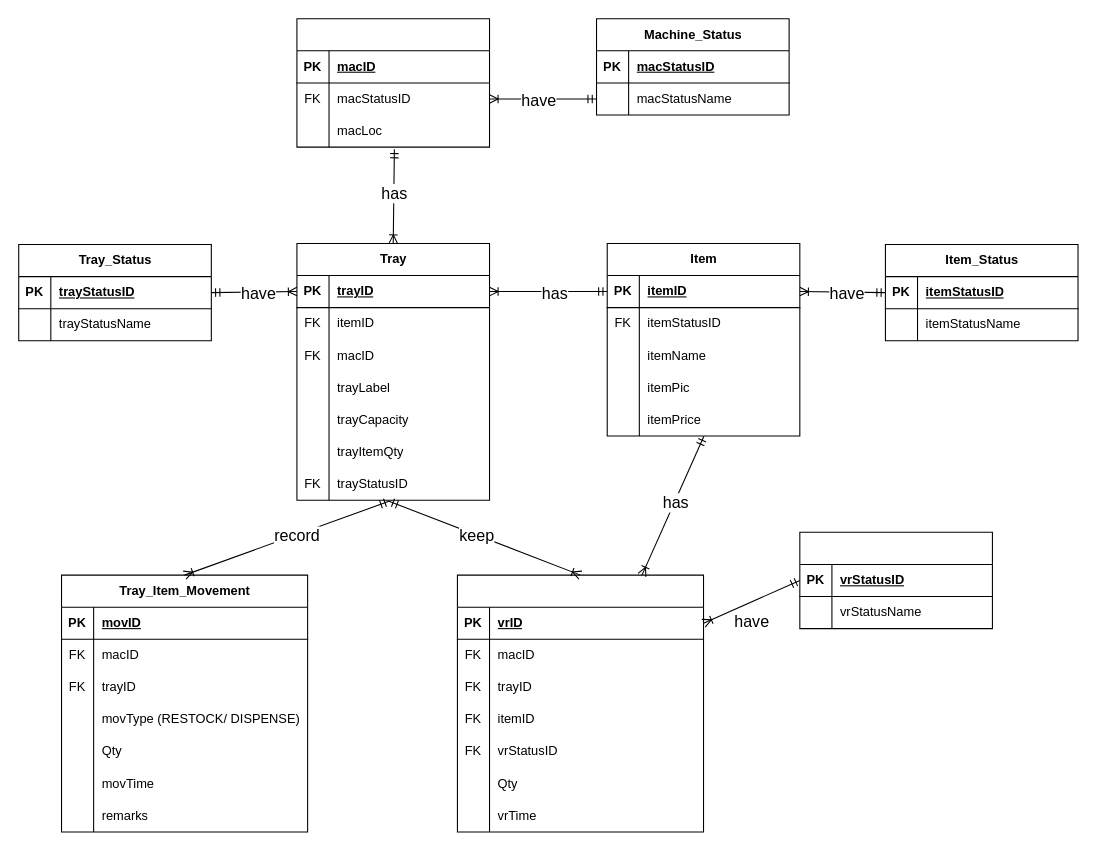
Some shapes in this 1097 by 851 pixel diagram are drawn without their labels. Each missing label, with the box of its shape:
Machine: (296, 18, 490, 147)
Vend_Record: (456, 574, 704, 832)
Vend_Record_Status: (799, 531, 992, 629)
